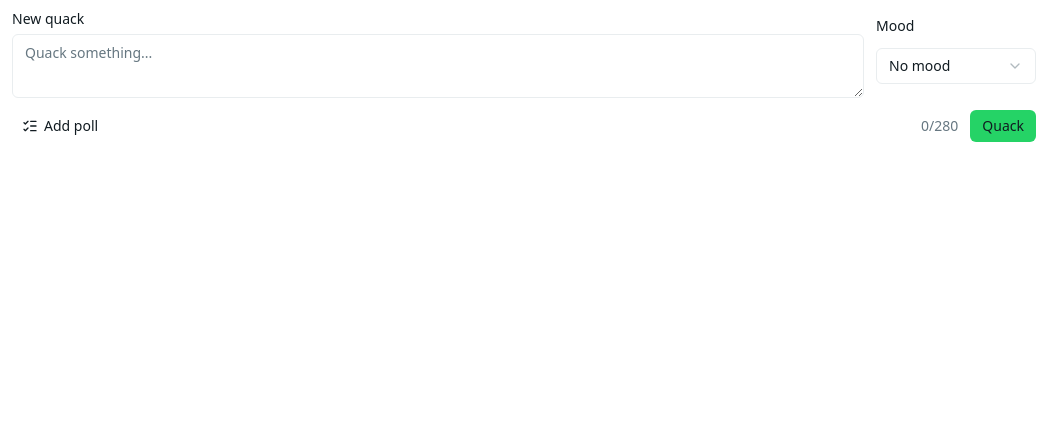
Test: QuackForm poll › removes the whole poll and hands focus back to 'Add poll'
Click the button "Add poll" at (60, 126), box top-left (12, 110), bottom-right (108, 142)
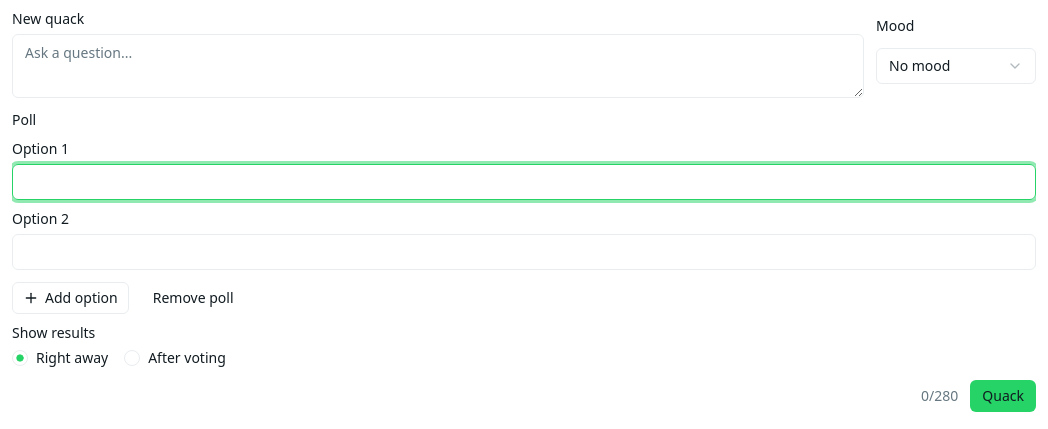
Click the button "Remove poll" at (193, 298), box top-left (141, 282), bottom-right (246, 314)
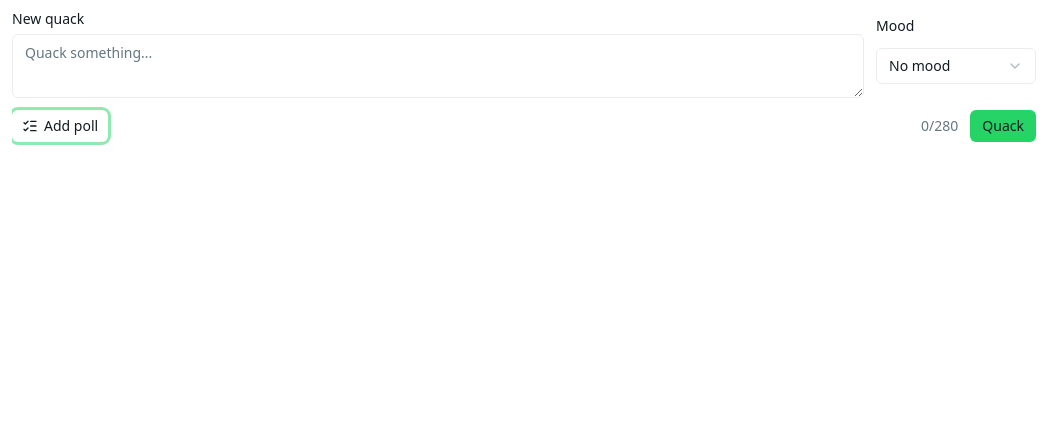
Check: the label labelled "Option 1" is gone
